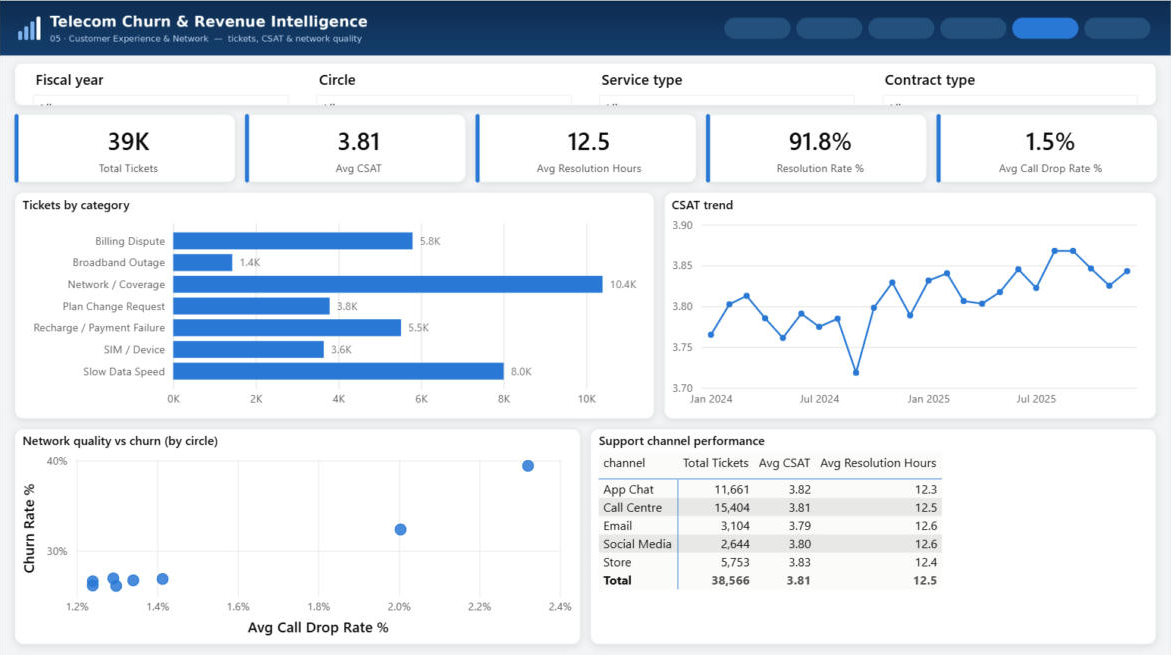

Layout of this report page (visuals, bound fields, positions):
{"tool":"powerbi","page":{"name":"Customer Experience","canvas":[1280,720],"ordinal":4},"visuals":[{"type":"slicer","fields":{"Values":["dim_date.fiscal_year"]},"box":[26,69,299.5,44.7],"z":0},{"type":"slicer","fields":{"Values":["dim_geography.circle"]},"box":[335.5,69,299.5,44.7],"z":1000},{"type":"slicer","fields":{"Values":["dim_customer.service_type"]},"box":[645,69,299.5,44.7],"z":2000},{"type":"slicer","fields":{"Values":["dim_customer.contract_type"]},"box":[954.5,69,299.5,44.7],"z":3000},{"type":"card","fields":{"Values":["_Measures.Total Tickets"]},"box":[28,128,225.3,66.7],"z":4000},{"type":"card","fields":{"Values":["_Measures.Avg CSAT"]},"box":[280,128,225.3,66.7],"z":5000},{"type":"card","fields":{"Values":["_Measures.Avg Resolution Hours"]},"box":[532,128,225.3,66.7],"z":6000},{"type":"card","fields":{"Values":["_Measures.Resolution Rate %"]},"box":[784,128,225.3,66.7],"z":7000},{"type":"card","fields":{"Values":["_Measures.Avg Call Drop Rate %"]},"box":[1036,128,225.3,66.7],"z":8000},{"type":"clusteredBarChart","title":"Tickets by category","fields":{"Category":["fact_tickets.category"],"Y":["_Measures.Total Tickets"]},"box":[20,213.3,691.3,240],"z":9000},{"type":"lineChart","title":"CSAT trend","fields":{"Category":["dim_date.month_start"],"Y":["_Measures.Avg CSAT"]},"box":[730,213.3,530,240],"z":10000},{"type":"scatterChart","title":"Network quality vs churn (by circle)","fields":{"Category":["dim_geography.circle"],"X":["_Measures.Avg Call Drop Rate %"],"Y":["_Measures.Churn Rate %"]},"box":[20,472,610.7,228],"z":11000},{"type":"pivotTable","title":"Support channel performance","fields":{"Rows":["fact_tickets.channel"],"Values":["_Measures.Total Tickets","_Measures.Avg CSAT","_Measures.Avg Resolution Hours"]},"box":[649.3,472,610.7,228],"z":12000}]}

Visuals, with their boxes in screenshot pixels (x1, y1, x2, y2), scaled from the page's 1280x720 canvas onto the 1171x655 screenshot:
slicer - dim_date.fiscal_year: (x1=24, y1=63, x2=298, y2=103)
slicer - dim_geography.circle: (x1=307, y1=63, x2=581, y2=103)
slicer - dim_customer.service_type: (x1=590, y1=63, x2=864, y2=103)
slicer - dim_customer.contract_type: (x1=873, y1=63, x2=1147, y2=103)
card - _Measures.Total Tickets: (x1=26, y1=116, x2=232, y2=177)
card - _Measures.Avg CSAT: (x1=256, y1=116, x2=462, y2=177)
card - _Measures.Avg Resolution Hours: (x1=487, y1=116, x2=693, y2=177)
card - _Measures.Resolution Rate %: (x1=717, y1=116, x2=923, y2=177)
card - _Measures.Avg Call Drop Rate %: (x1=948, y1=116, x2=1154, y2=177)
"Tickets by category" clusteredBarChart: (x1=18, y1=194, x2=651, y2=412)
"CSAT trend" lineChart: (x1=668, y1=194, x2=1153, y2=412)
"Network quality vs churn (by circle)" scatterChart: (x1=18, y1=429, x2=577, y2=637)
"Support channel performance" pivotTable: (x1=594, y1=429, x2=1153, y2=637)
